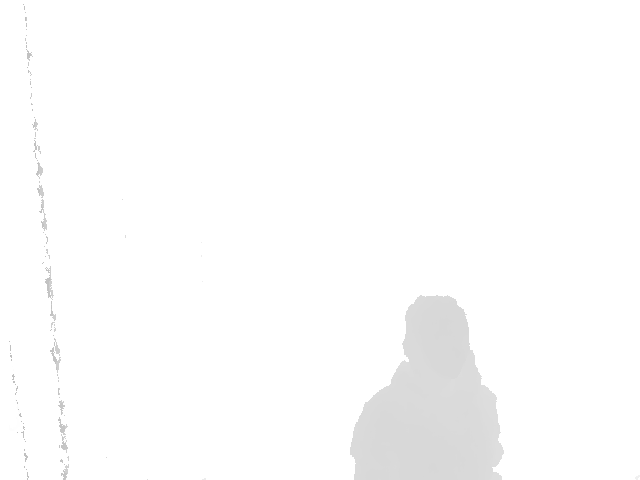head: (402, 295, 472, 383)
person: (348, 295, 505, 480)
